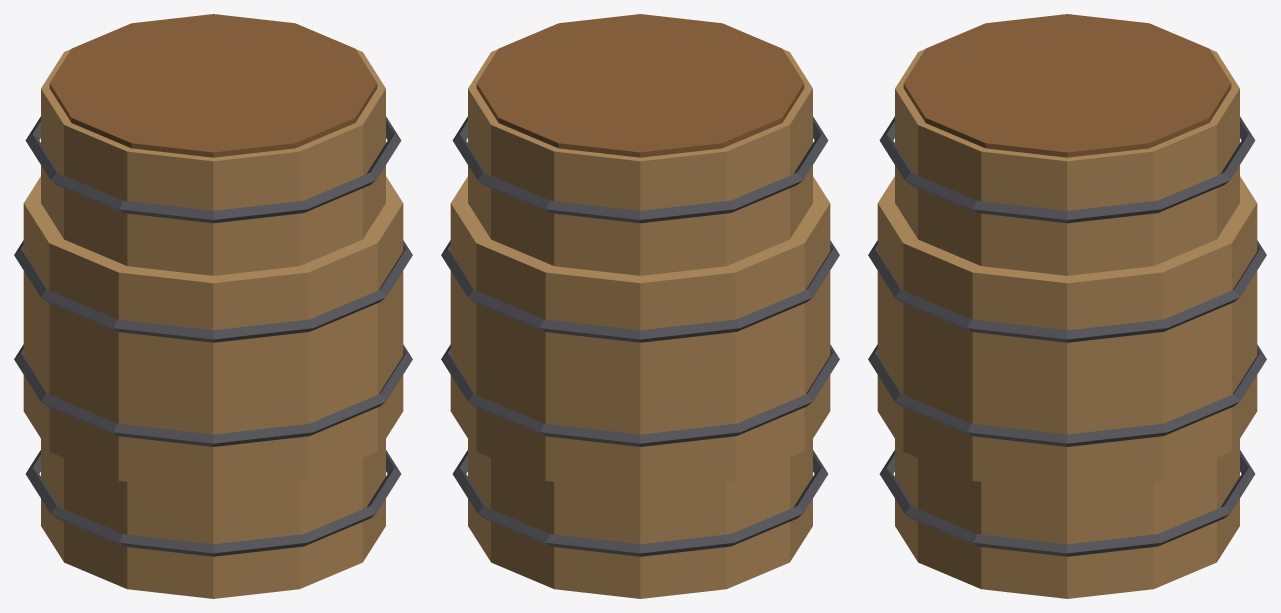
Rendered from barrel.glb.
3 renders of one model, left to right at view 1: azimuth 30°, elevation 25°; view 2: azimuth 150°, elevation 25°; view 3: azimuth 270°, elevation 25°, orthographic.
Parts seen in each view (by area): view 1: barrel; view 2: barrel; view 3: barrel.
Boxes of the visible parts, box(x1,y1,x2,y2) form: barrel: box(14, 14, 412, 598); barrel: box(441, 14, 839, 598); barrel: box(868, 14, 1266, 598).
Size of the model in its own units: 0.694 by 0.85 by 0.694.
